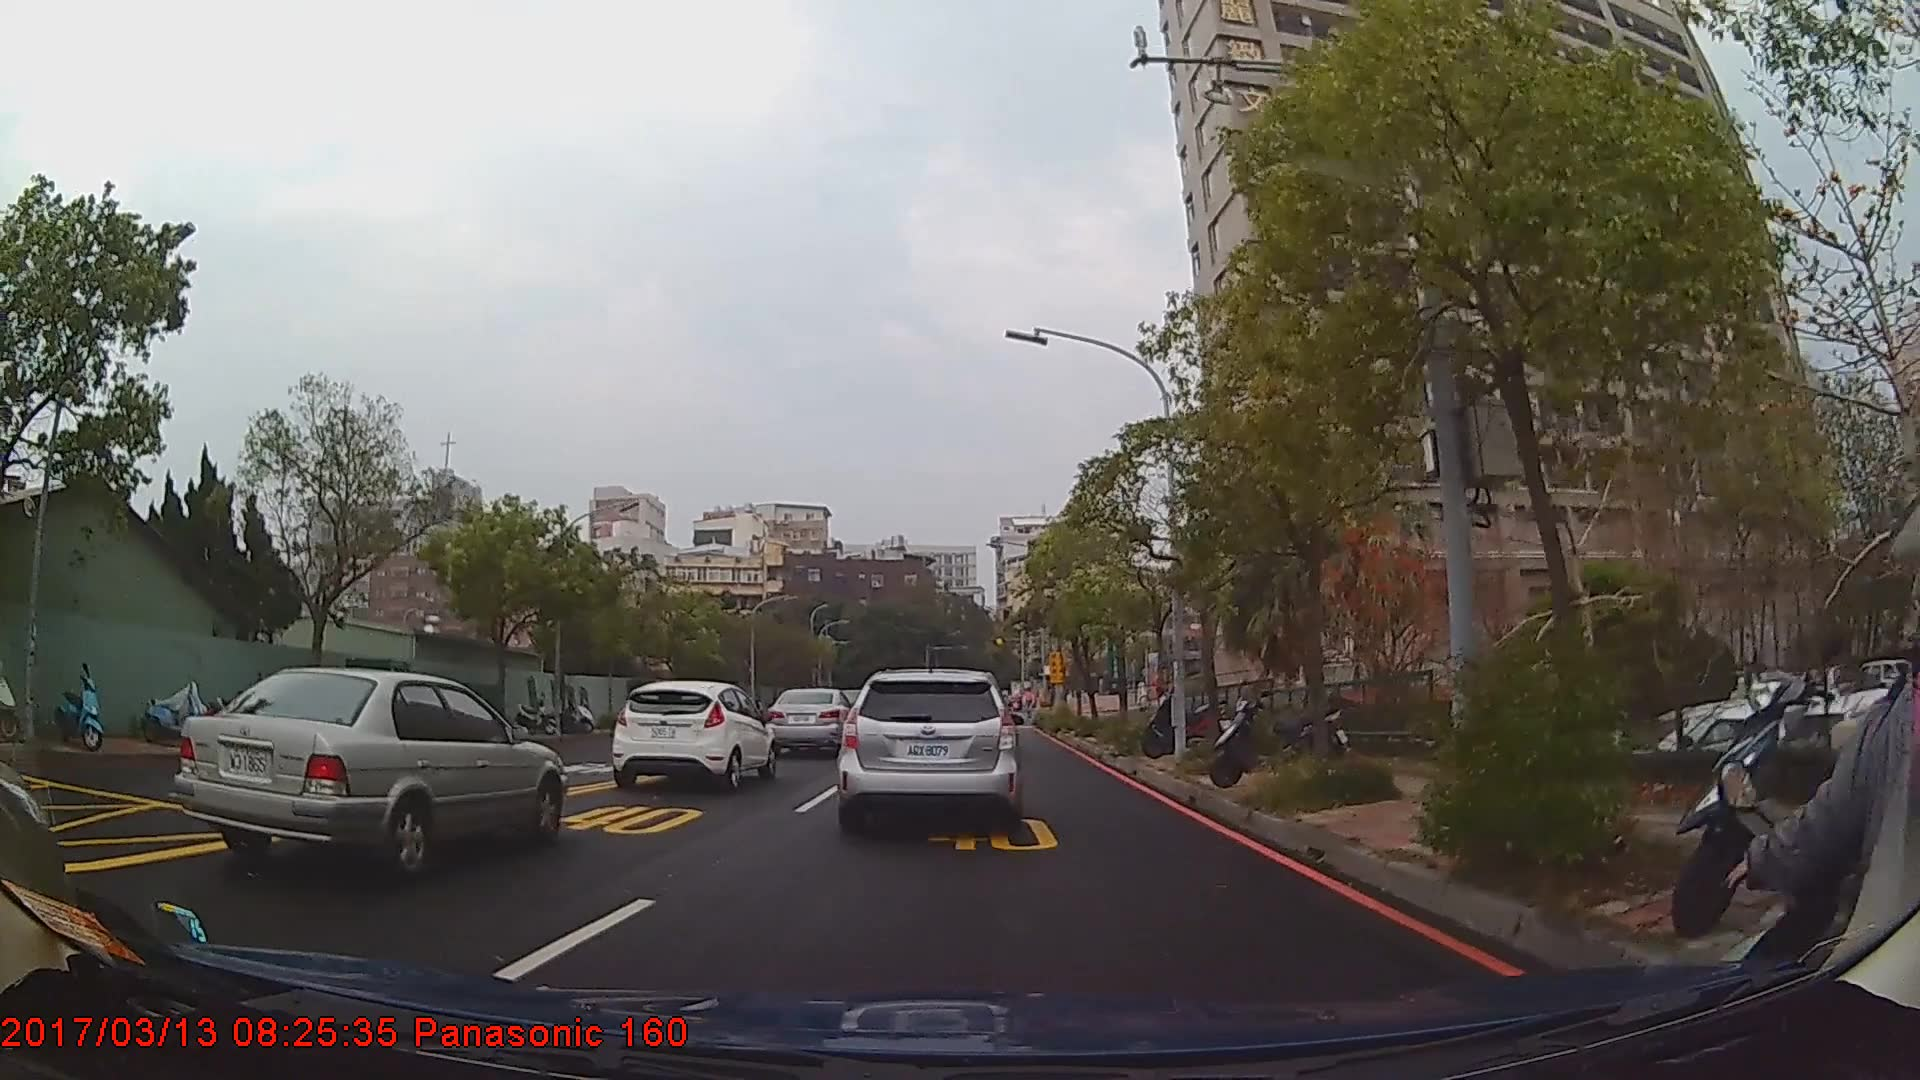rider: (1720, 487, 1920, 1080)
vehicle: (171, 665, 570, 874), (839, 665, 1021, 825), (611, 678, 778, 787), (768, 687, 859, 754)
